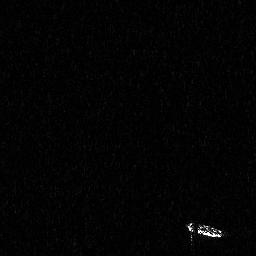ship: (185, 219, 228, 249)
